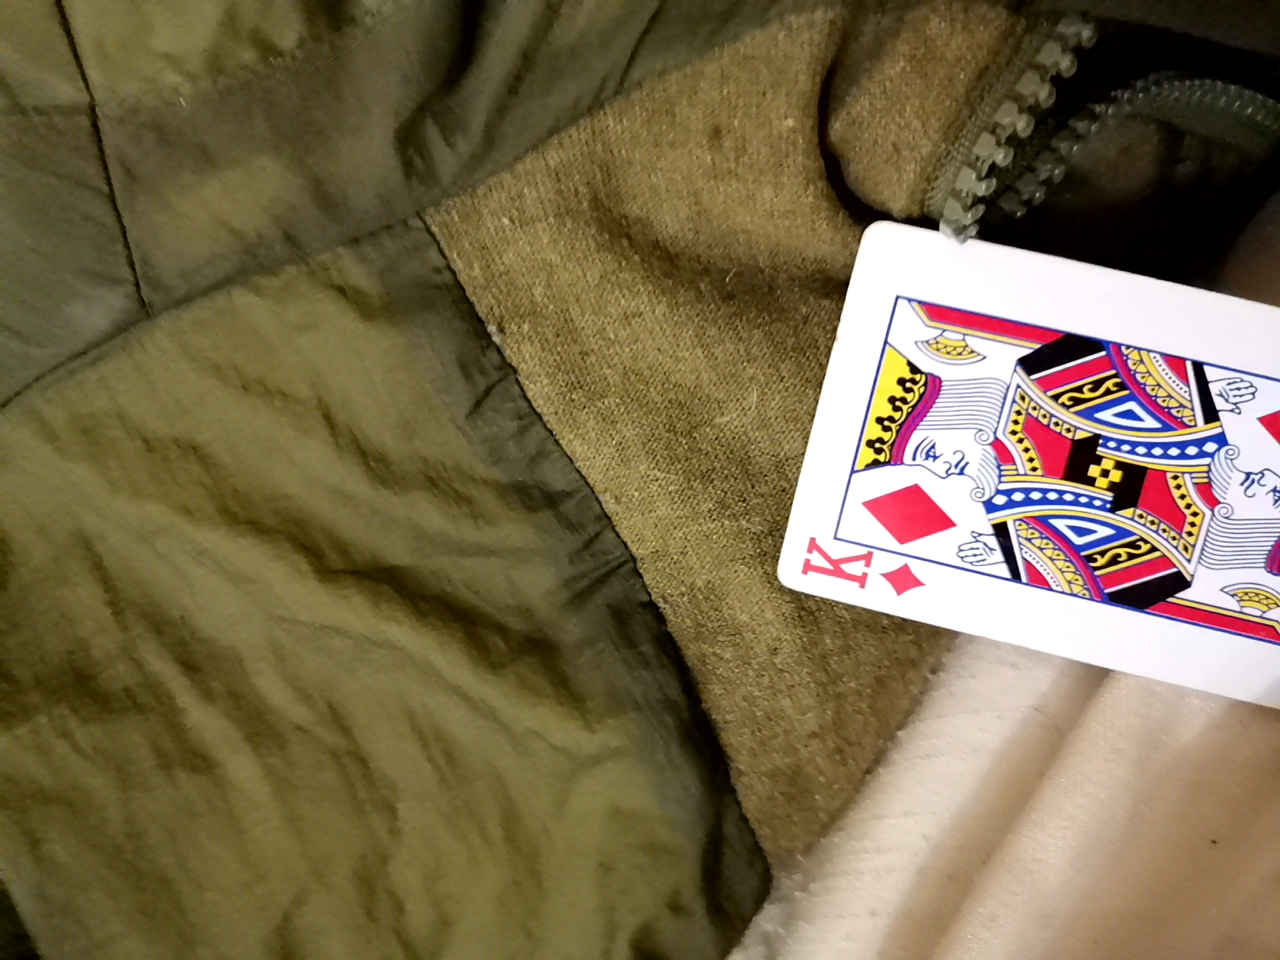fk k: (778, 234, 1280, 746)
